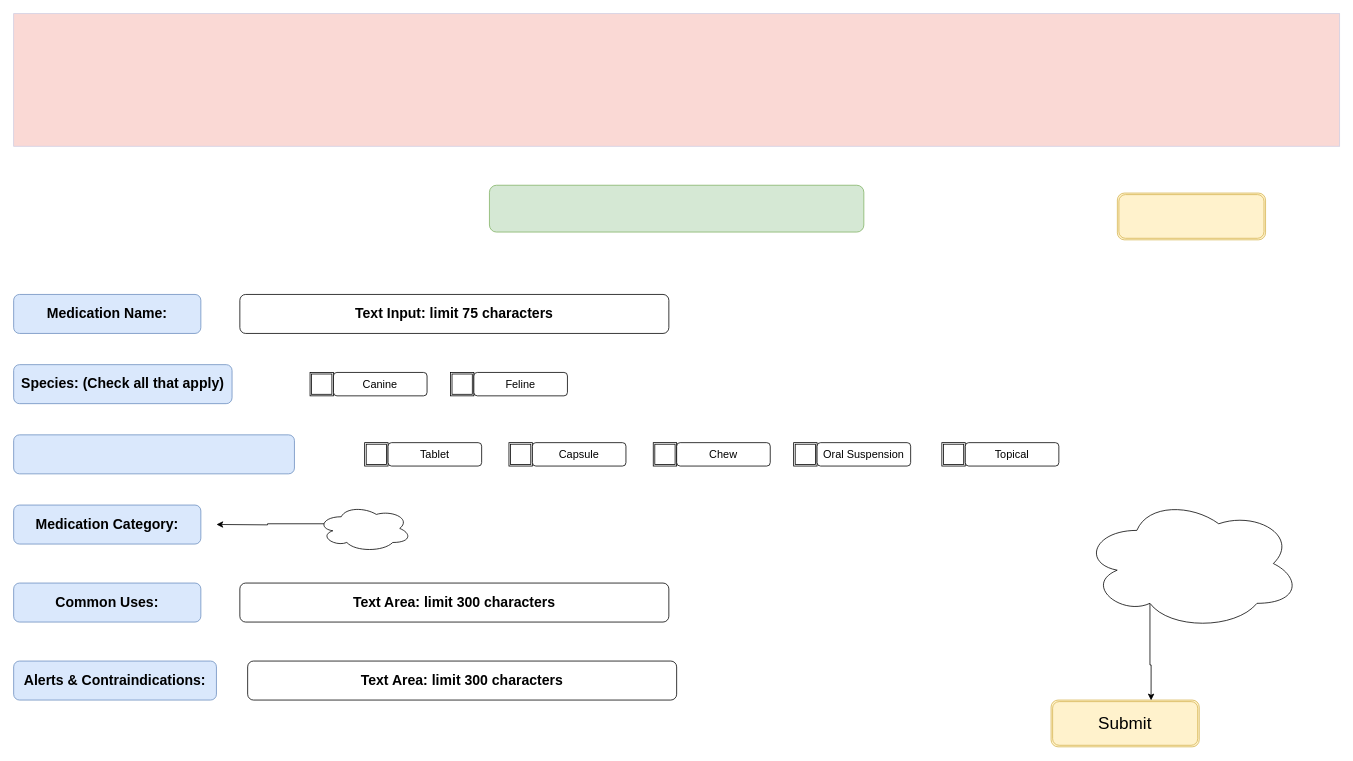
Some shapes in this 1353 by 761 pixel diagram are drawn without their labels. Each missing label, with the centre of its shape:
"Add New Medication Form" goes at pixel 676 208.
"Available Forms: (Check all that apply)" goes at pixel 153 454.
"Drop Down" goes at pixel 364 528.
"HOME" goes at pixel 1191 216.
"Onclick submit Directs home" goes at pixel 1191 563.
"Training Tidbits" goes at pixel 676 79.
